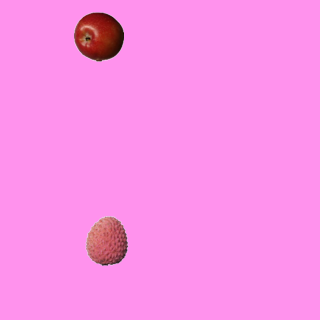Apple Braeburn: (73, 11, 123, 61)
Lychee: (81, 215, 131, 265)
